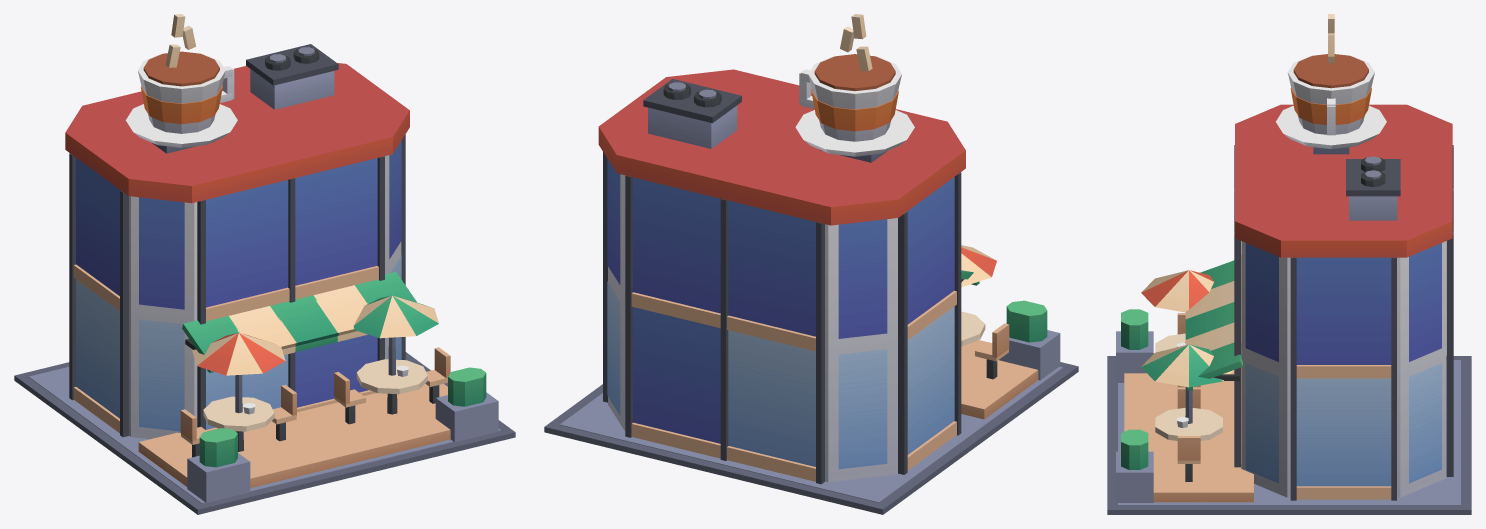
The model's file is com_street_cafe_1x1.glb.
3 views of the same model, side by side, from view 1: azimuth 30°, elevation 25°; view 2: azimuth 150°, elevation 25°; view 3: azimuth 270°, elevation 25° (orthographic). The views are drawn at different scales.
Parts seen in each view (by area): view 1: com_street_cafe_1x1; view 2: com_street_cafe_1x1; view 3: com_street_cafe_1x1.
Boxes of the visible parts, bbox=[...] form: com_street_cafe_1x1: bbox=[14, 14, 515, 514]; com_street_cafe_1x1: bbox=[544, 14, 1078, 514]; com_street_cafe_1x1: bbox=[1107, 14, 1471, 514].
Size of the model in its own units: 1.74 by 2.06 by 1.74.
1 material, 1 textured.
